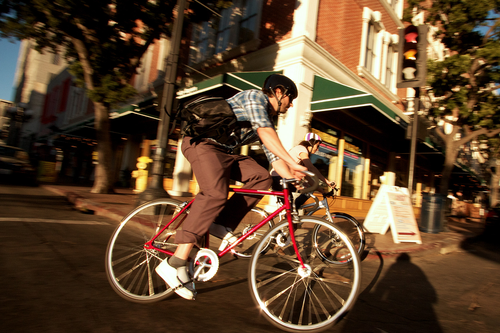bikerider: (102, 67, 366, 333), (240, 137, 397, 258)
